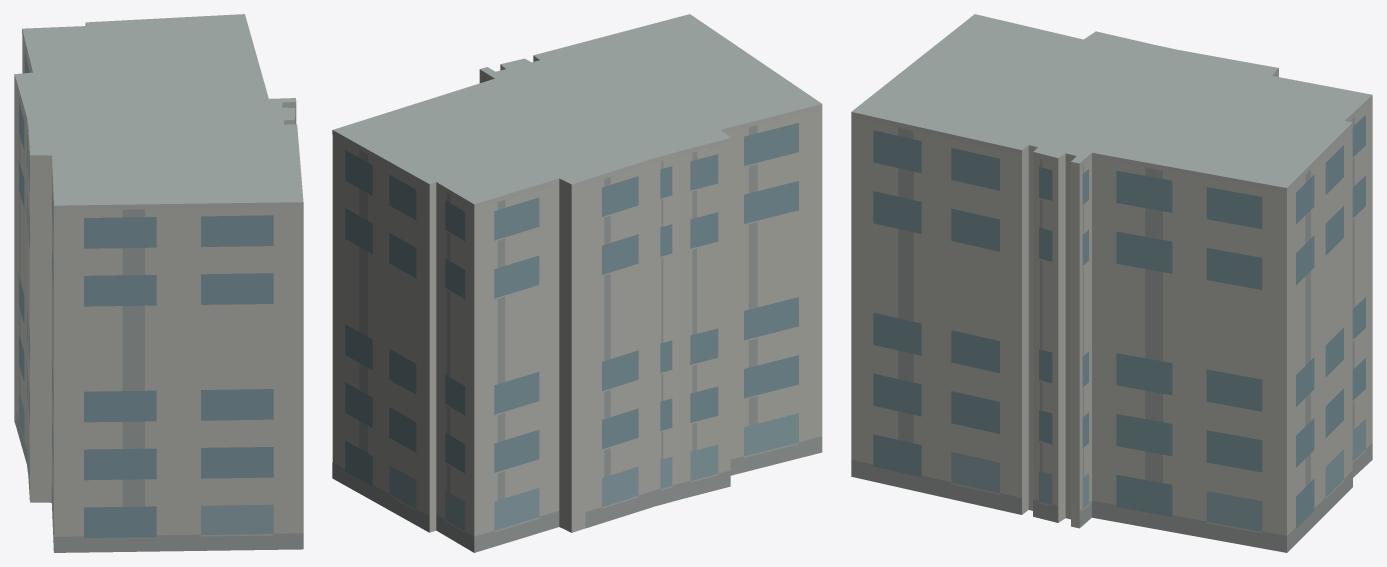
The model's file is survey-upis-33007918.glb.
The picture shows the model from 3 angles, left to right: view 1: azimuth 30°, elevation 25°; view 2: azimuth 150°, elevation 25°; view 3: azimuth 270°, elevation 25°; orthographic projection. The views are drawn at different scales.
Parts seen in each view (by area): view 1: survey-upis-33007918.tmp; view 2: survey-upis-33007918.tmp; view 3: survey-upis-33007918.tmp.
Part boxes in pixels (<box>): survey-upis-33007918.tmp: <box>14,14,303,552</box>; survey-upis-33007918.tmp: <box>332,14,822,552</box>; survey-upis-33007918.tmp: <box>851,14,1372,552</box>.
Size of the model in its own units: 17.81 by 17.4 by 22.55.
